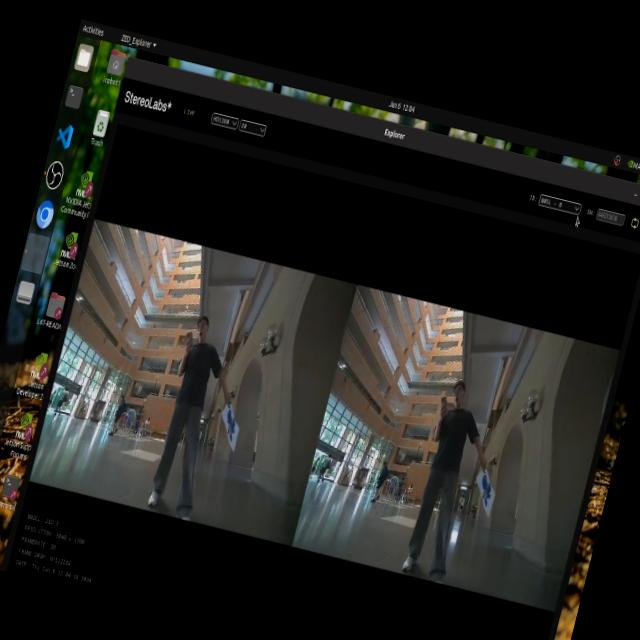blue: (210, 403, 246, 452), (468, 468, 504, 515)
